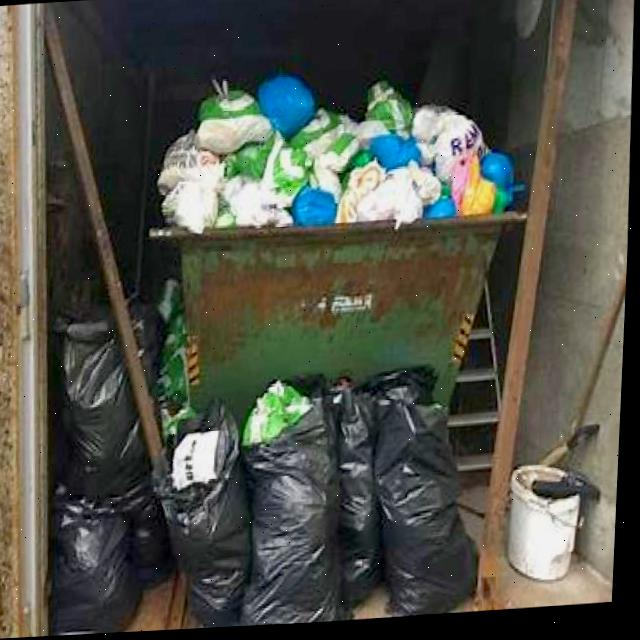Garbage: (159, 77, 515, 235)
Plastic_Bag: (414, 113, 498, 219), (340, 164, 442, 231), (261, 79, 315, 140), (167, 182, 219, 234), (293, 188, 338, 227)
